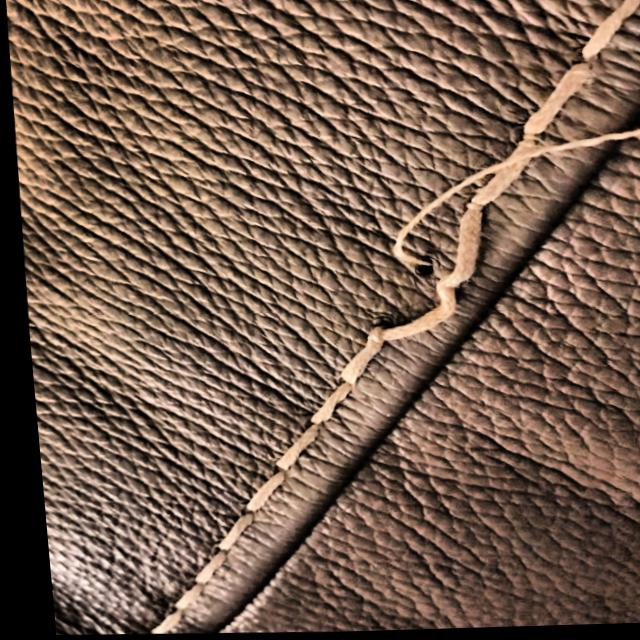Stitch: (253, 138, 622, 436)
